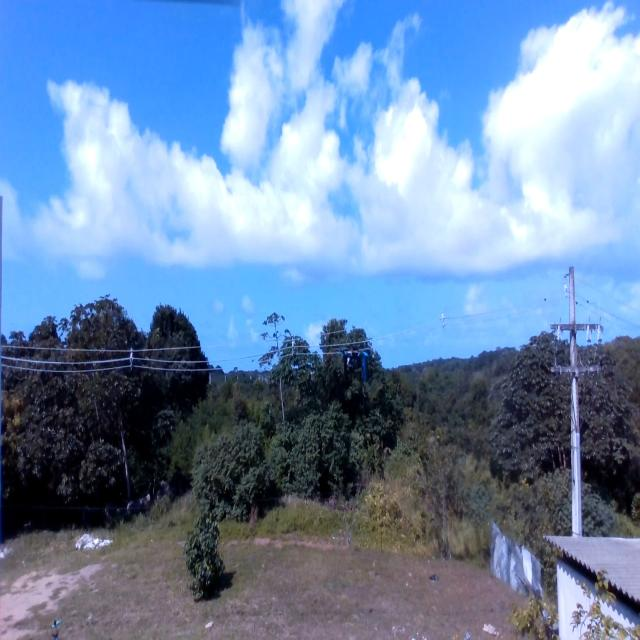-uav-: (337, 341, 379, 391)
